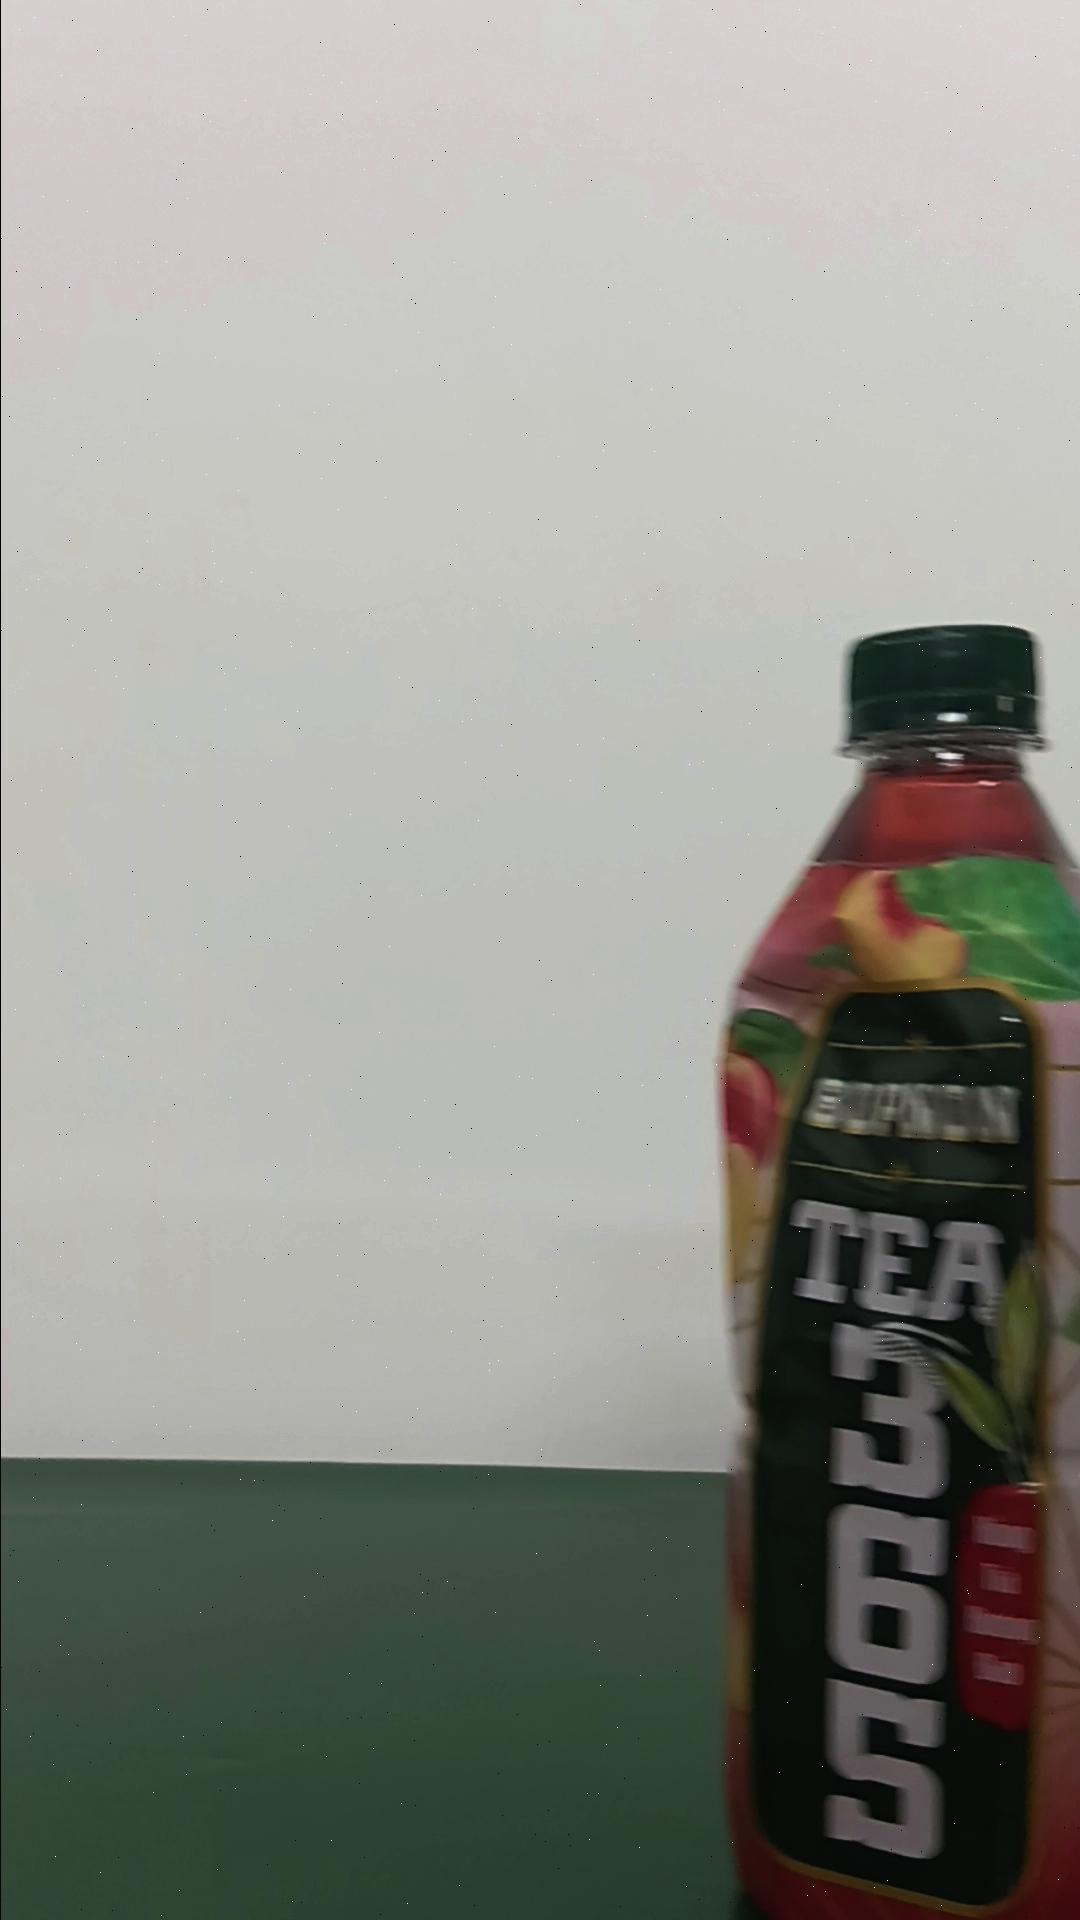loi meo sp: (713, 621, 1077, 1913)
